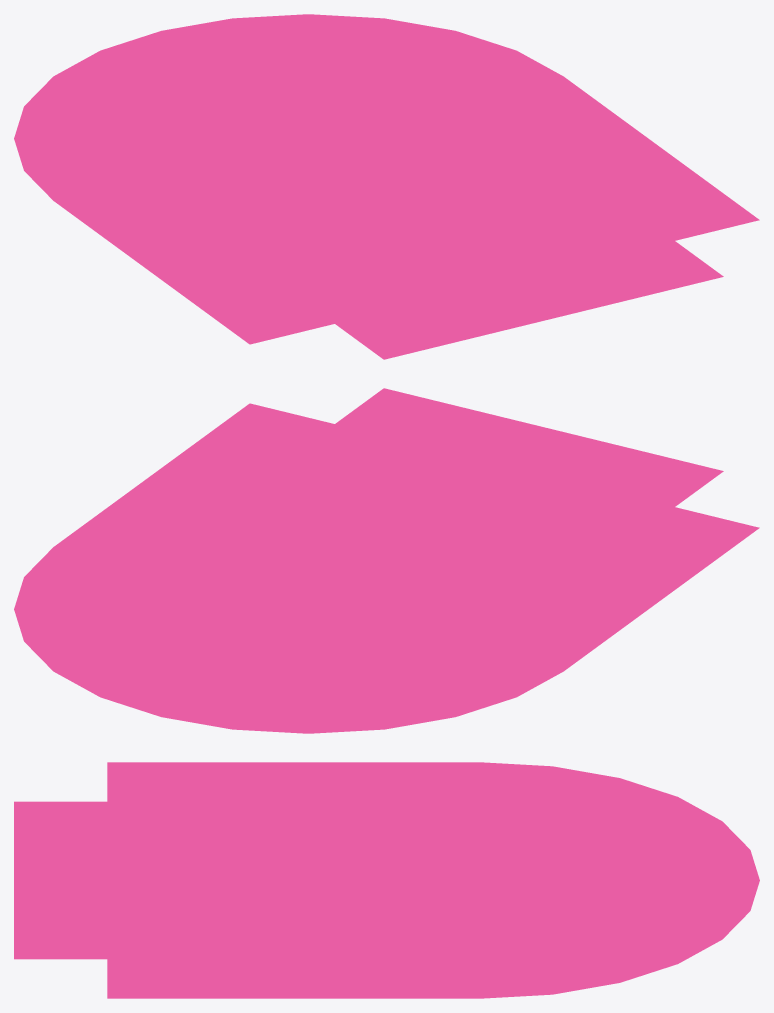
Rendered from rover.dae.
The picture shows the model from 3 angles, top to bottom: view 1: azimuth 30°, elevation 25°; view 2: azimuth 150°, elevation 25°; view 3: azimuth 270°, elevation 25°; orthographic projection. The views are drawn at different scales.
Visible parts, largest first — view 1: SketchUp; view 2: SketchUp; view 3: SketchUp.
Part boxes in pixels (bbox=[...]): SketchUp: bbox=[14, 14, 759, 359]; SketchUp: bbox=[14, 388, 759, 733]; SketchUp: bbox=[14, 762, 759, 998].
Bounding box in the file's own units: 47.24 × 62.99 × 0.
